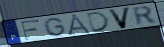A: (67, 13, 94, 36)
D: (86, 11, 112, 34)
F: (20, 19, 41, 42)
G: (43, 17, 68, 37)
R: (131, 5, 159, 28)
V: (107, 6, 133, 30)
